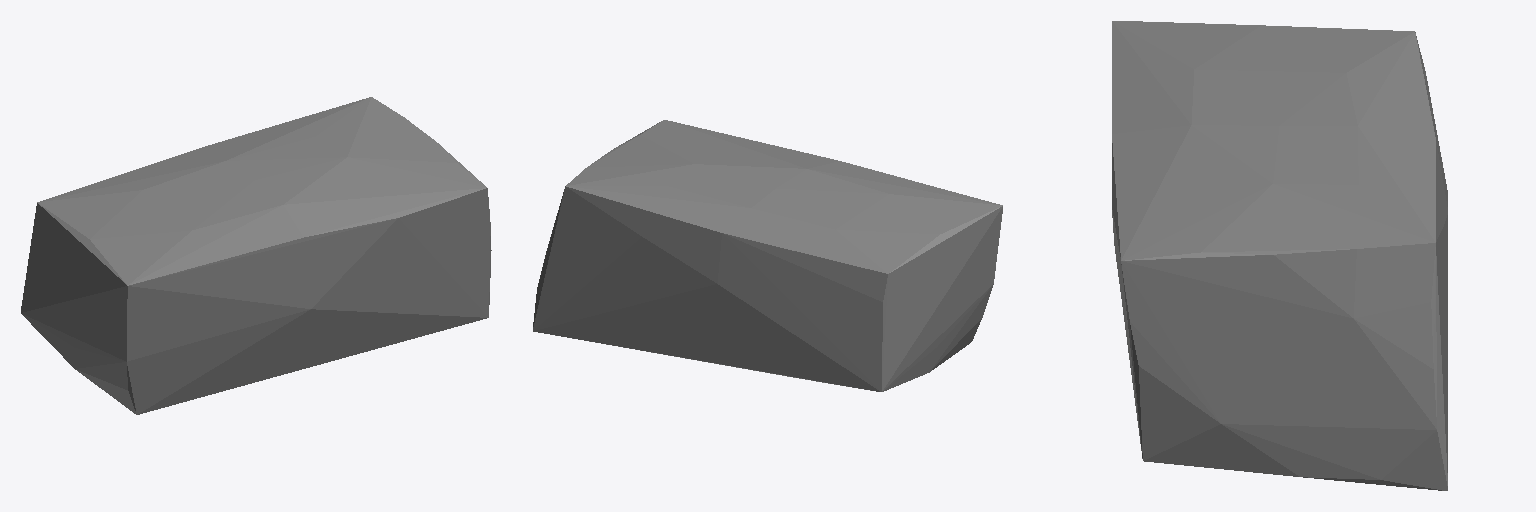
The robot description file, URDF, robot "5_622":
<?xml version="1.0"?>
<robot name="5_622">
  <link name="link">
    <contact>
      <lateral_friction value="0.6"/>
    </contact>
    <inertial>
      <mass value = "0.4494855619364243"/>
      <inertia ixx="0.0001559715290546075" ixy="1.4175453550748965e-05" ixz="-7.649699207357808e-07" iyy="0.0004077581620557479" iyz="-4.3013459555643736e-06" izz="0.0004542708520018729" />
    </inertial>
    <visual name="visual">
      <geometry>
        <mesh filename="5_622.obj"/>
      </geometry>
      <material name="material">
        <color rgba="0.5670430115206359 0.5670430115206359 0.5670430115206359 1.0"/>
      </material>
    </visual>
    <collision name="collision">
      <geometry>
        <mesh filename="5_622.obj"/>
      </geometry>
    </collision>
  </link>
</robot>

--- Facts derived from the render (not from the file) ---
3 views of the same robot in one strip: view 1: azimuth 30°, elevation 25°; view 2: azimuth 150°, elevation 25°; view 3: azimuth 270°, elevation 25° (orthographic).
Robot: 5_622 — 1 links, 0 joints (none); root link link; default pose: every joint at zero.
Links seen in each view (by area): view 1: link; view 2: link; view 3: link.
Boxes of the visible links, box(x1,y1,x2,y2) form: link: box(21, 97, 491, 414); link: box(533, 120, 1002, 391); link: box(1112, 21, 1447, 490).
Size in the robot's own frame: 0.1043 by 0.0554 by 0.0417 metres.
1 mesh visuals loaded from 1 distinct referenced files (1 OBJ).
